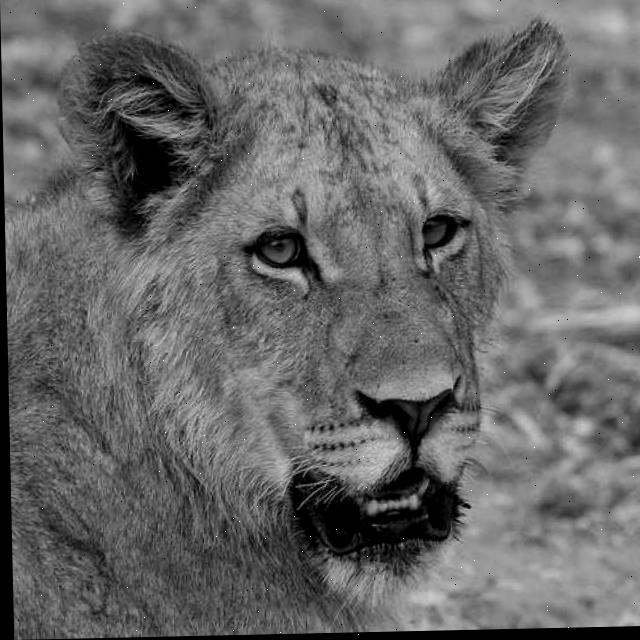Lion: (25, 18, 640, 639)
